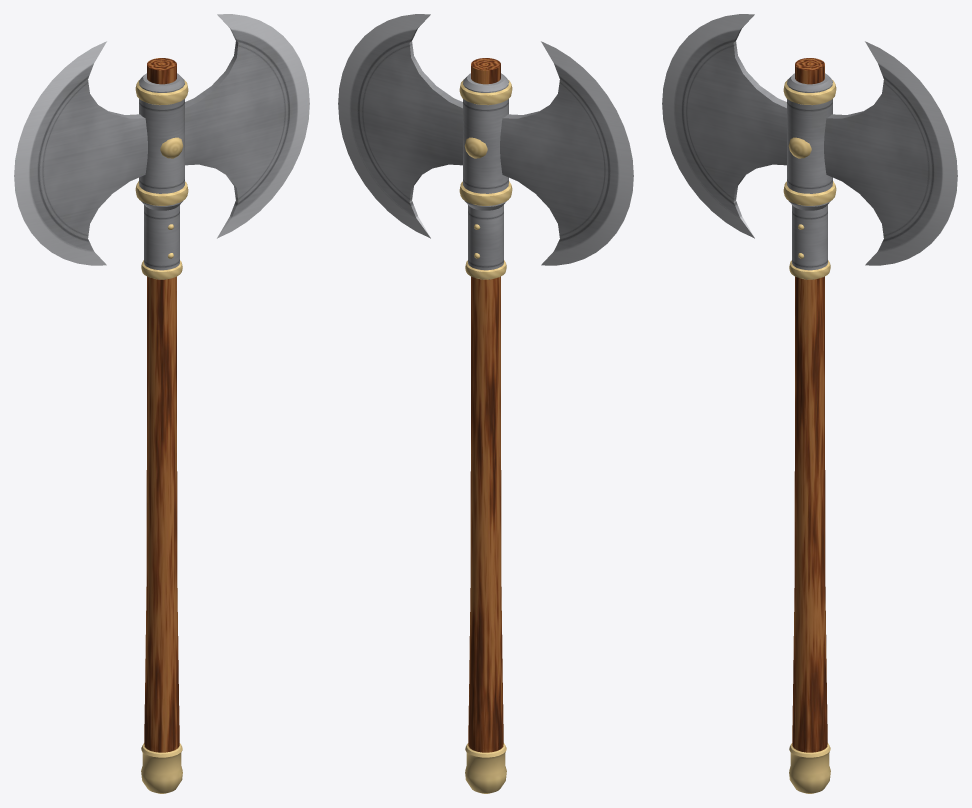
The model's file is hacha.glb.
3 renders of one model, left to right at view 1: azimuth 30°, elevation 25°; view 2: azimuth 150°, elevation 25°; view 3: azimuth 330°, elevation 25°, orthographic.
Visible parts, largest first — view 1: Hacha; view 2: Hacha; view 3: Hacha.
Boxes of the visible parts, x1,y1,x2,y2 form: Hacha: (14, 14, 309, 793); Hacha: (338, 14, 633, 793); Hacha: (662, 14, 957, 793).
Bounding box in the file's own units: 0.43 × 1.06 × 0.068.
Materials: 3 (3 with a texture image).
